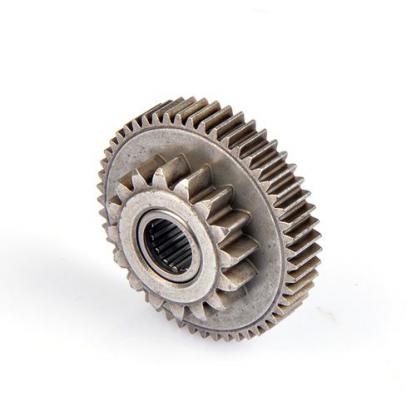FOD: (92, 92, 326, 343), (101, 151, 257, 325)
